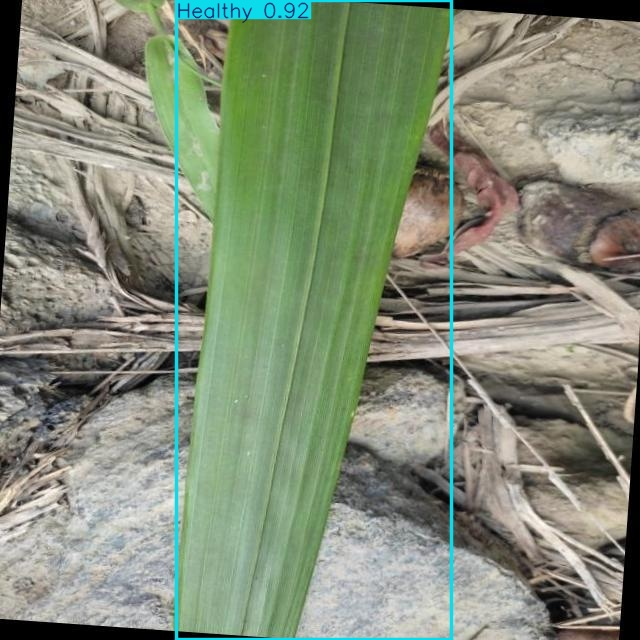Healthy: (176, 0, 452, 640)
